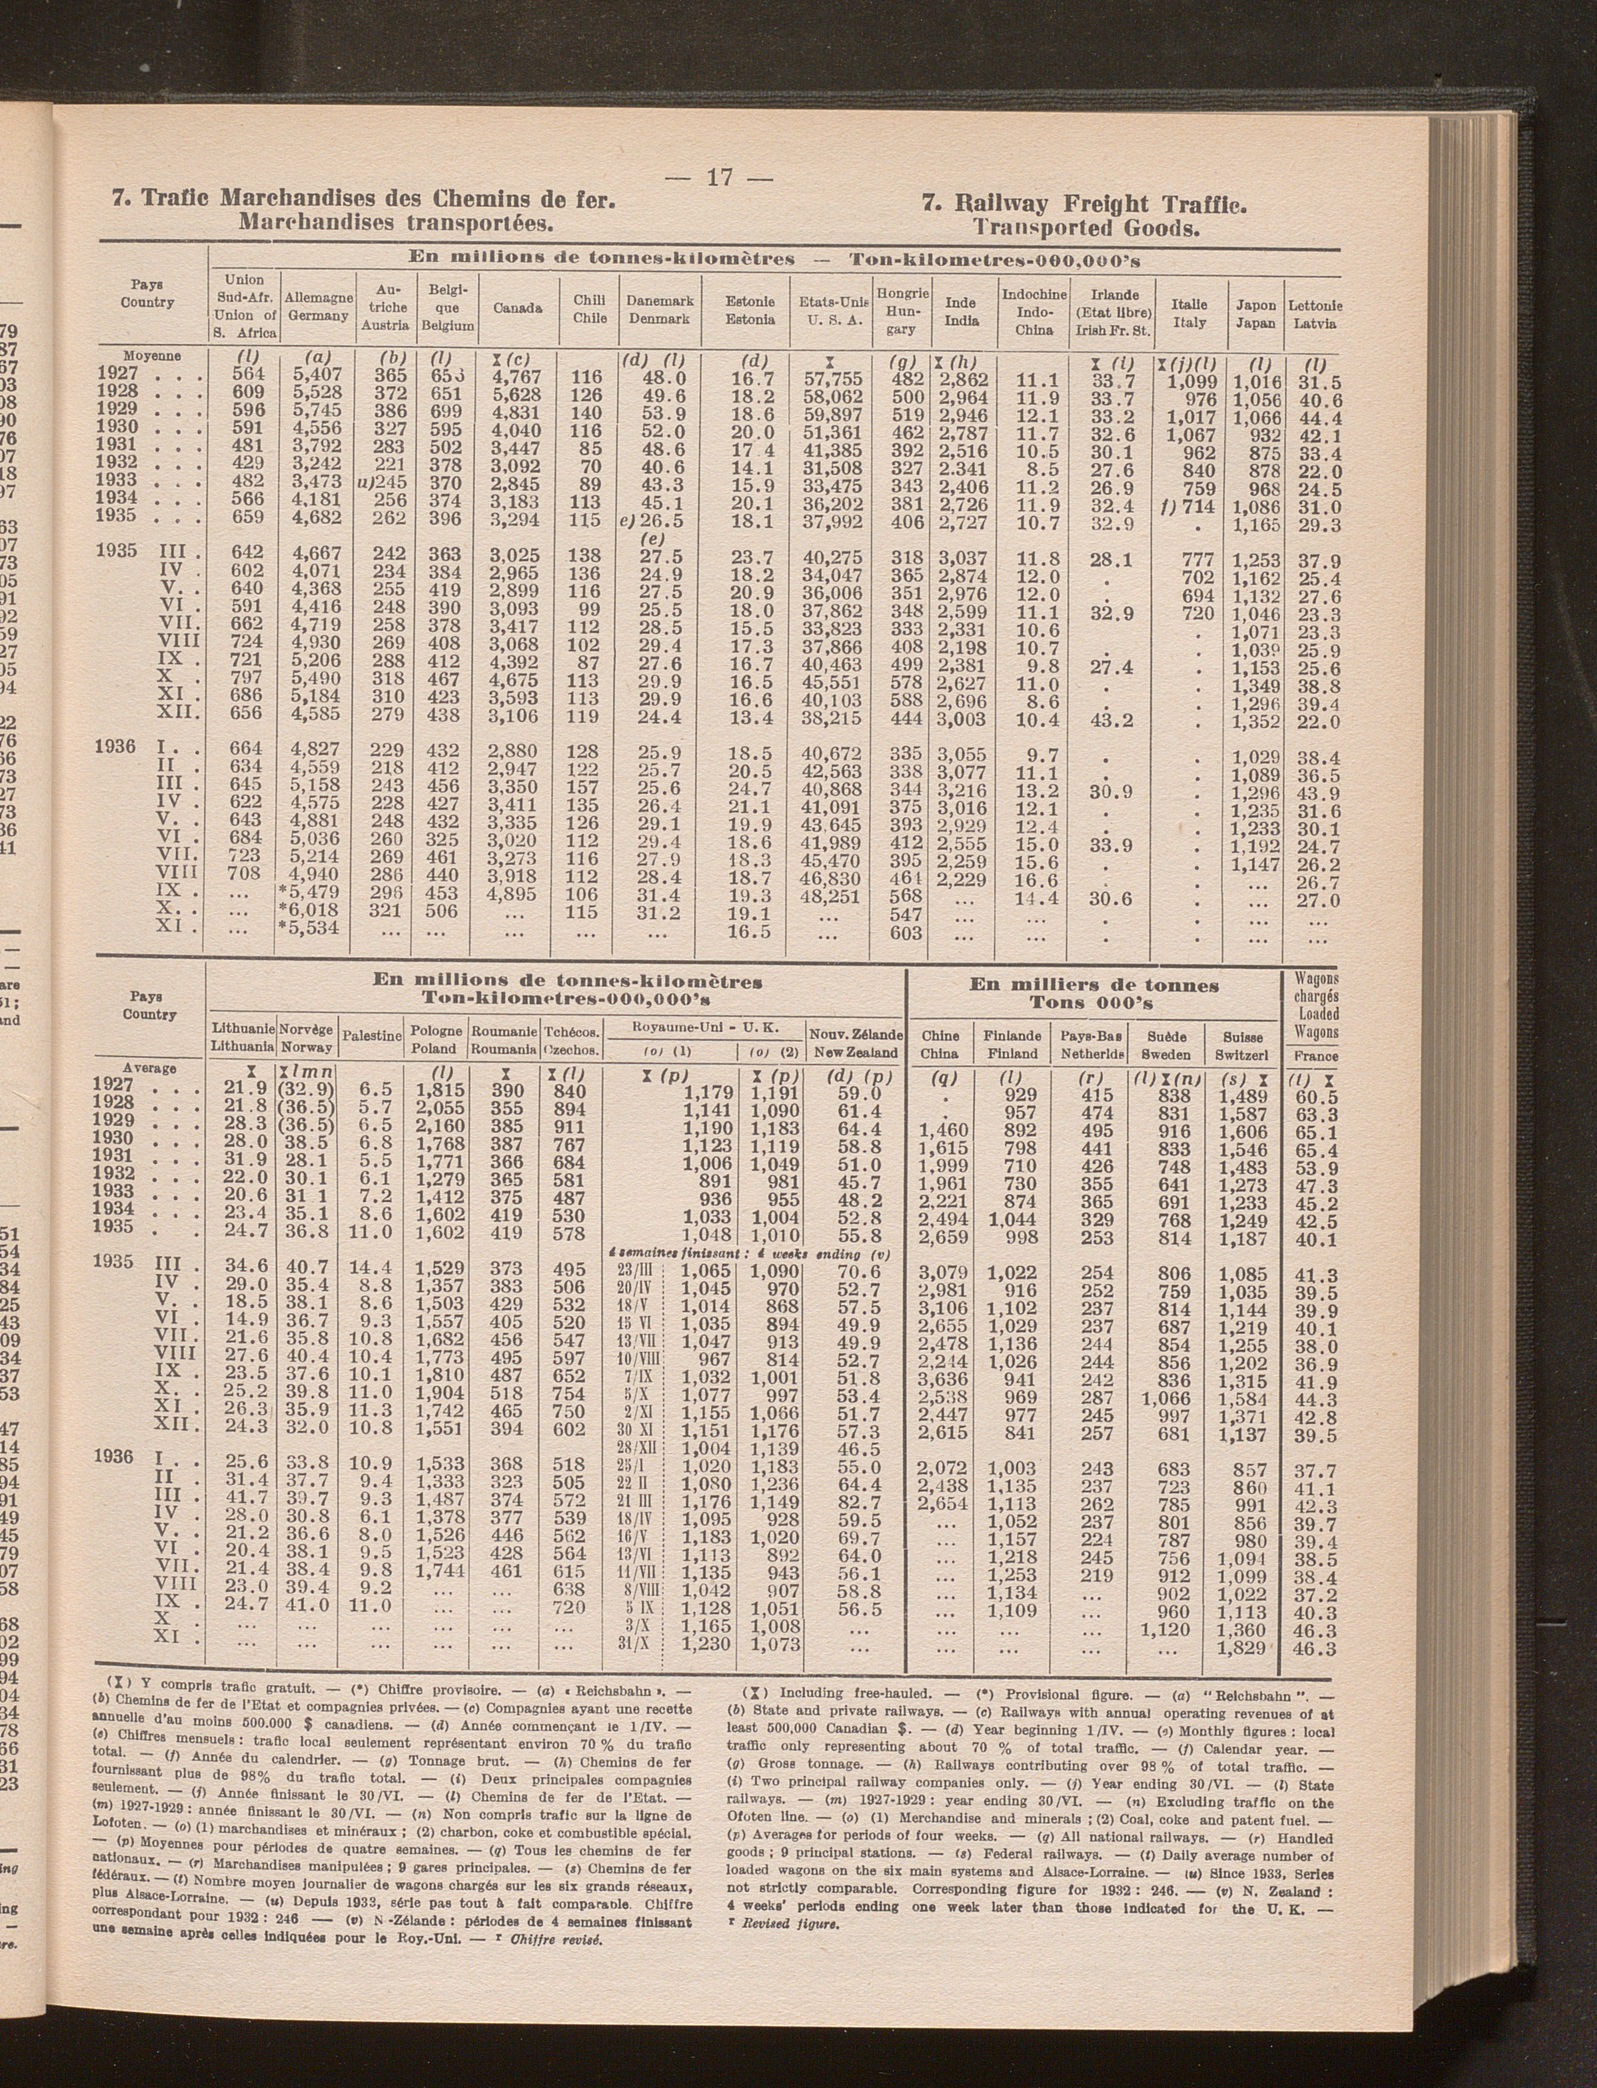MainZone-Head: (108, 178, 623, 238), (915, 183, 1257, 241)
MarginTextZone-Notes: (90, 1673, 696, 1953), (722, 1684, 1342, 1926)
NumberingZone: (660, 159, 783, 193)
TableZone: (83, 238, 1353, 1686)
